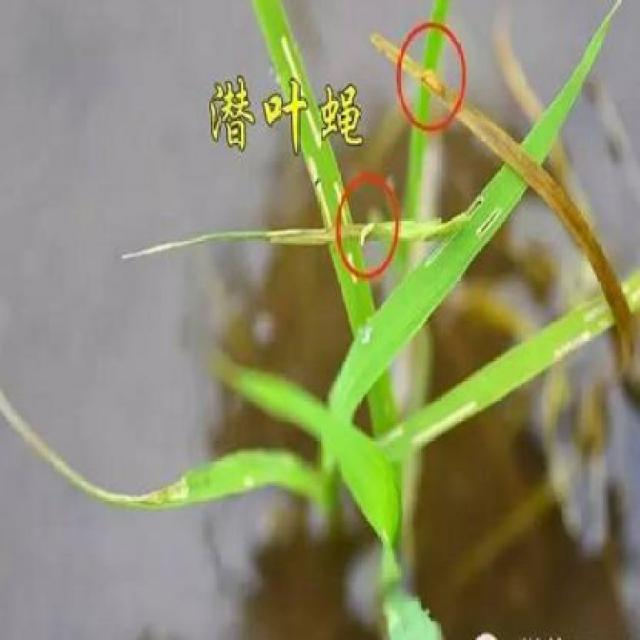whorl-maggot: (355, 211, 380, 258)
